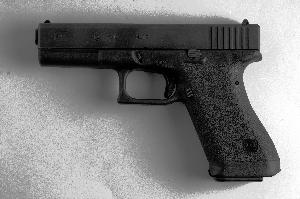handgun: (33, 11, 283, 186)
